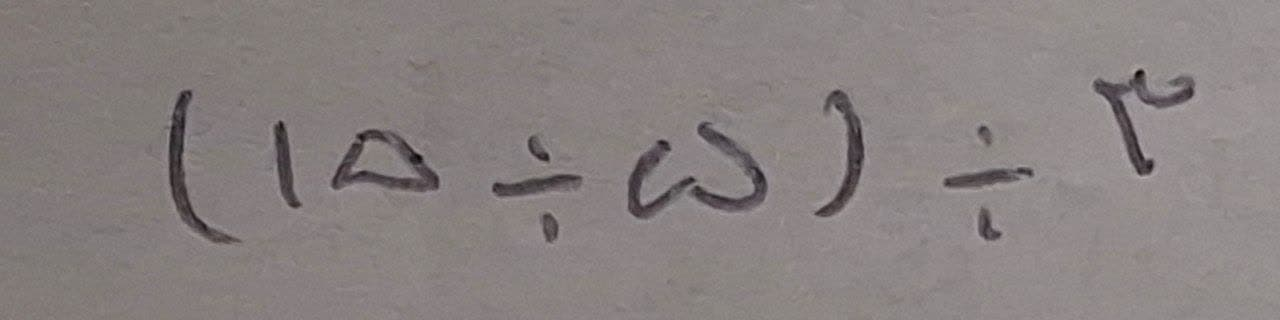character: (621, 116, 766, 222), (1088, 65, 1199, 180), (164, 85, 239, 251), (942, 123, 1041, 245), (488, 129, 582, 247), (328, 124, 443, 199), (814, 87, 869, 220), (271, 115, 302, 209)
